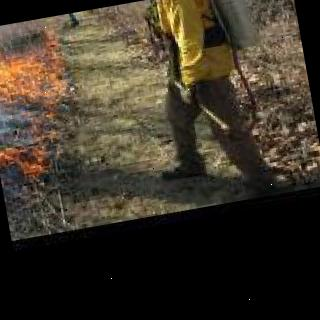fire: (0, 24, 79, 183)
